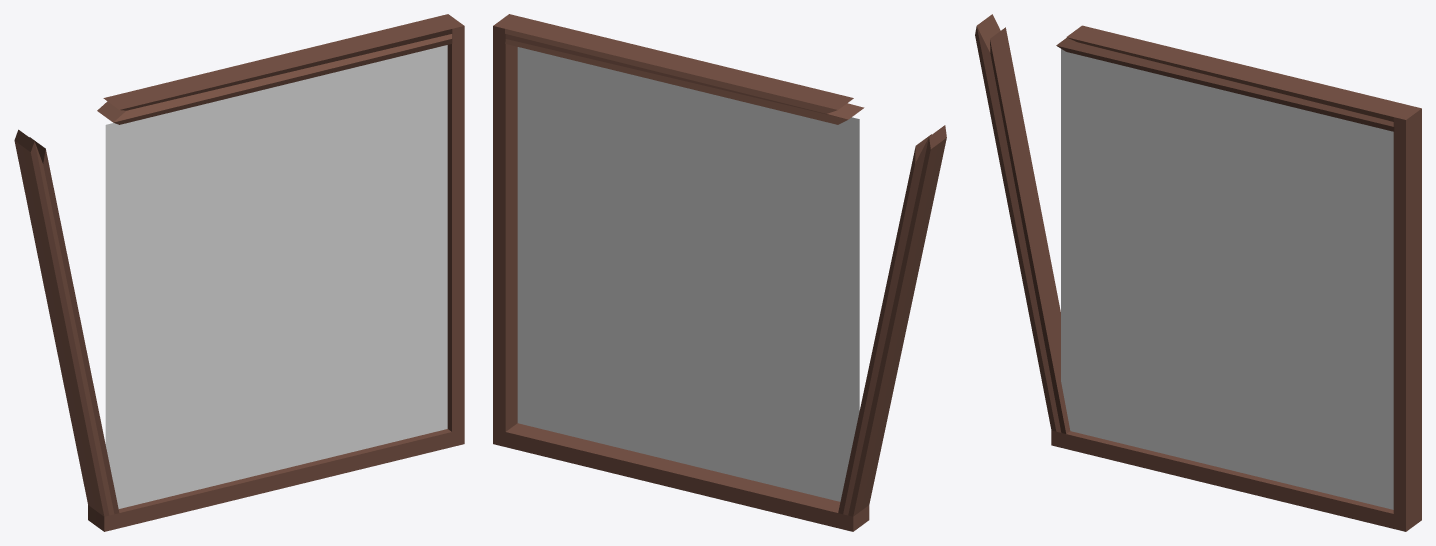
File: marco_roto.fbx
3 views of the same model, side by side, from view 1: azimuth 30°, elevation 25°; view 2: azimuth 150°, elevation 25°; view 3: azimuth 330°, elevation 25° (orthographic).
Parts seen in each view (by area): view 1: Cubo; view 2: Cubo; view 3: Cubo.
Boxes of the visible parts, bbox=[...] form: Cubo: bbox=[14, 14, 464, 531]; Cubo: bbox=[493, 14, 946, 531]; Cubo: bbox=[975, 14, 1421, 531].
Size of the model in its own units: 1935 by 1775 by 165.
